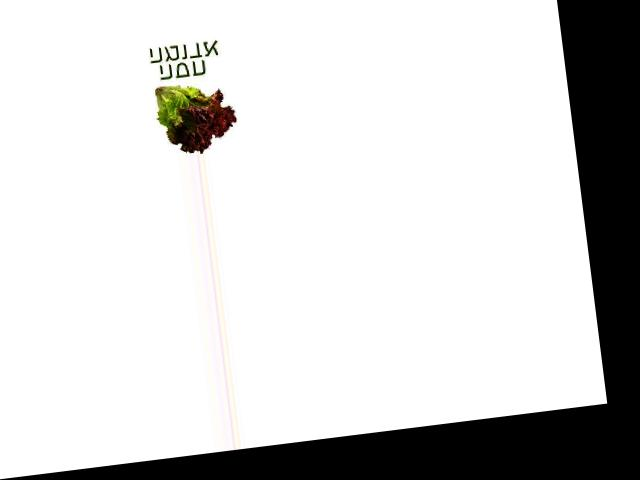lettuce: (145, 75, 241, 159)
